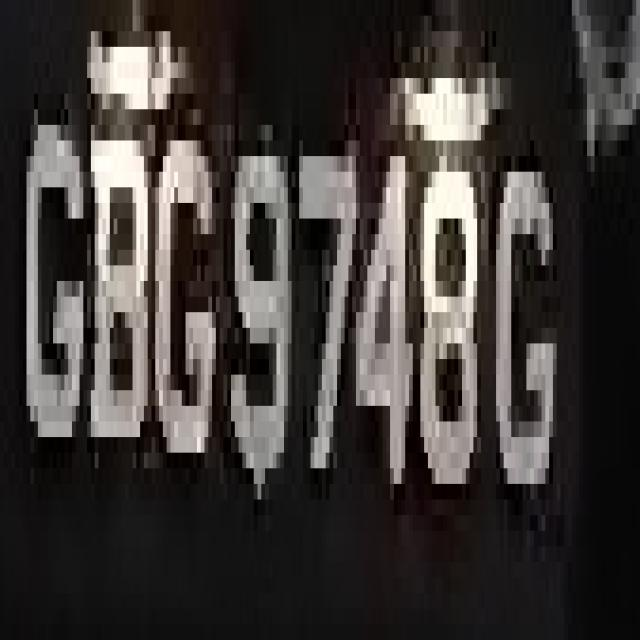4: (359, 94, 416, 562)
7: (288, 109, 360, 531)
8: (409, 140, 477, 546)
9: (220, 93, 288, 530)
B: (95, 94, 152, 515)
G: (19, 78, 95, 500), (485, 109, 560, 515), (152, 78, 224, 500)
